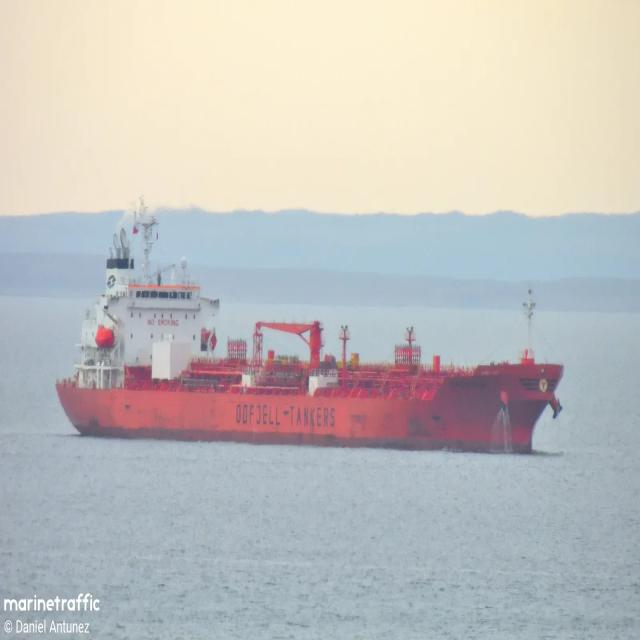Tanker: (56, 207, 562, 452)
